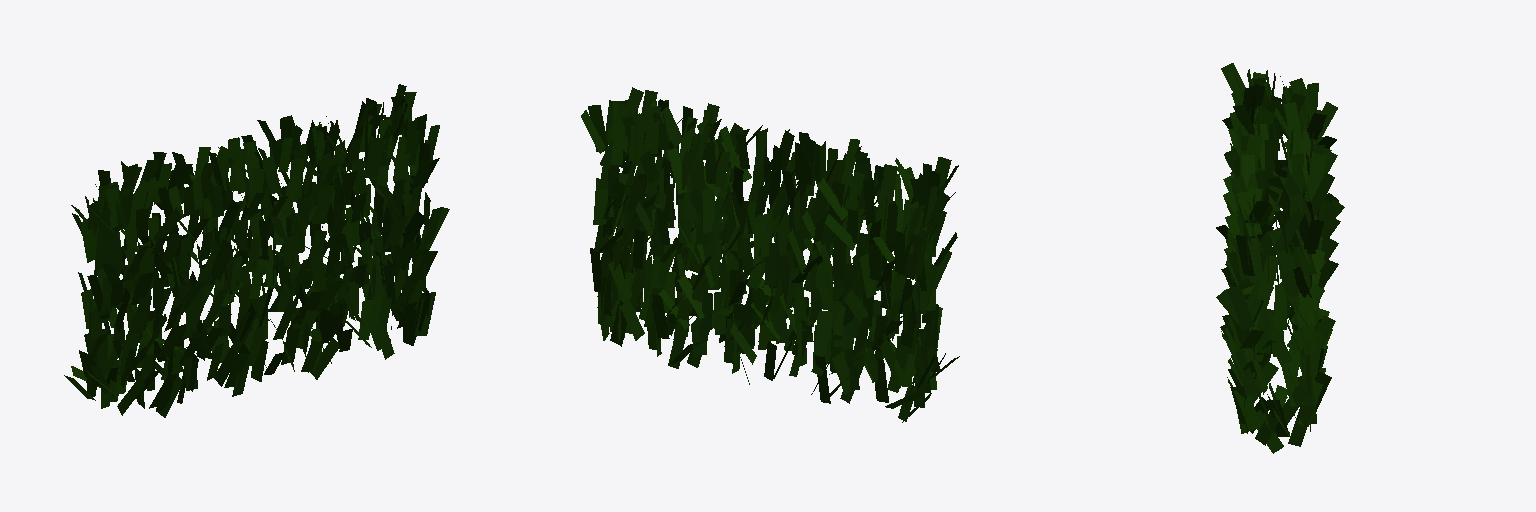
The model's file is WallHedge2.obj.
3 views of the same model, side by side, from view 1: azimuth 30°, elevation 25°; view 2: azimuth 150°, elevation 25°; view 3: azimuth 270°, elevation 25° (orthographic).
Parts seen in each view (by area): view 1: WallHedge2_Cube.029; view 2: WallHedge2_Cube.029; view 3: WallHedge2_Cube.029.
Boxes of the visible parts, x1,y1,x2,y2 form: WallHedge2_Cube.029: [64, 84, 449, 417]; WallHedge2_Cube.029: [581, 87, 959, 422]; WallHedge2_Cube.029: [1216, 63, 1344, 453].
Bounding box in the file's own units: 5.28 × 3.43 × 1.65.